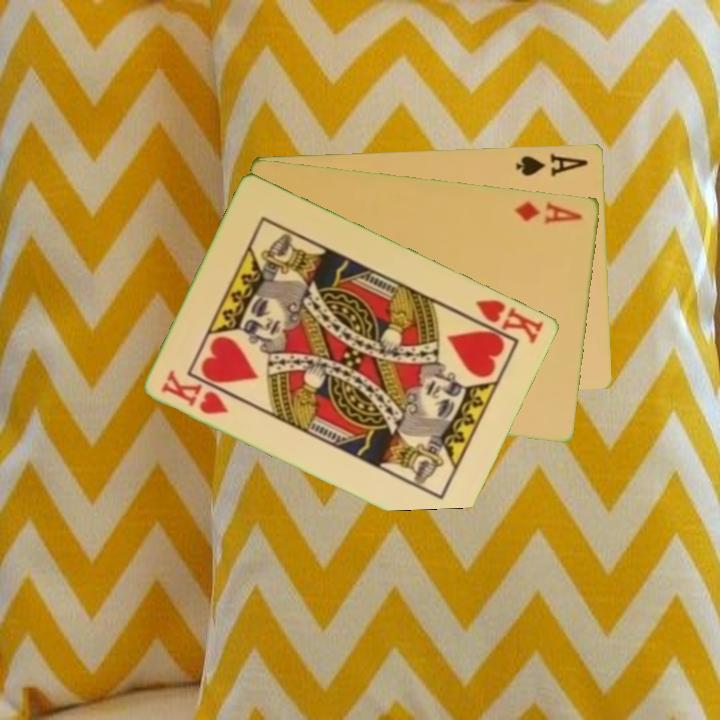Ad: (511, 197, 586, 227)
As: (513, 150, 591, 180)
Kh: (462, 295, 547, 347), (158, 366, 232, 417)
